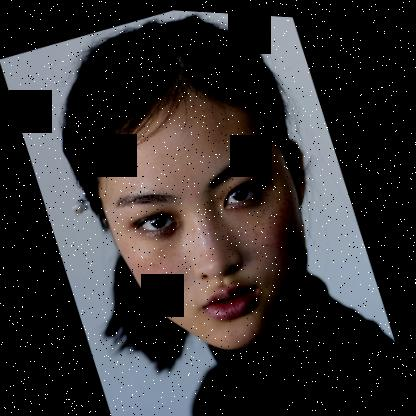Female: (69, 48, 359, 381)
